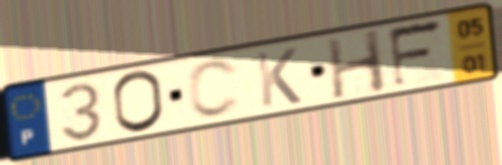3: (53, 79, 105, 143)
C: (185, 57, 244, 121)
F: (385, 16, 448, 92)
H: (323, 26, 390, 102)
K: (253, 45, 304, 110)
O: (110, 68, 168, 136)
